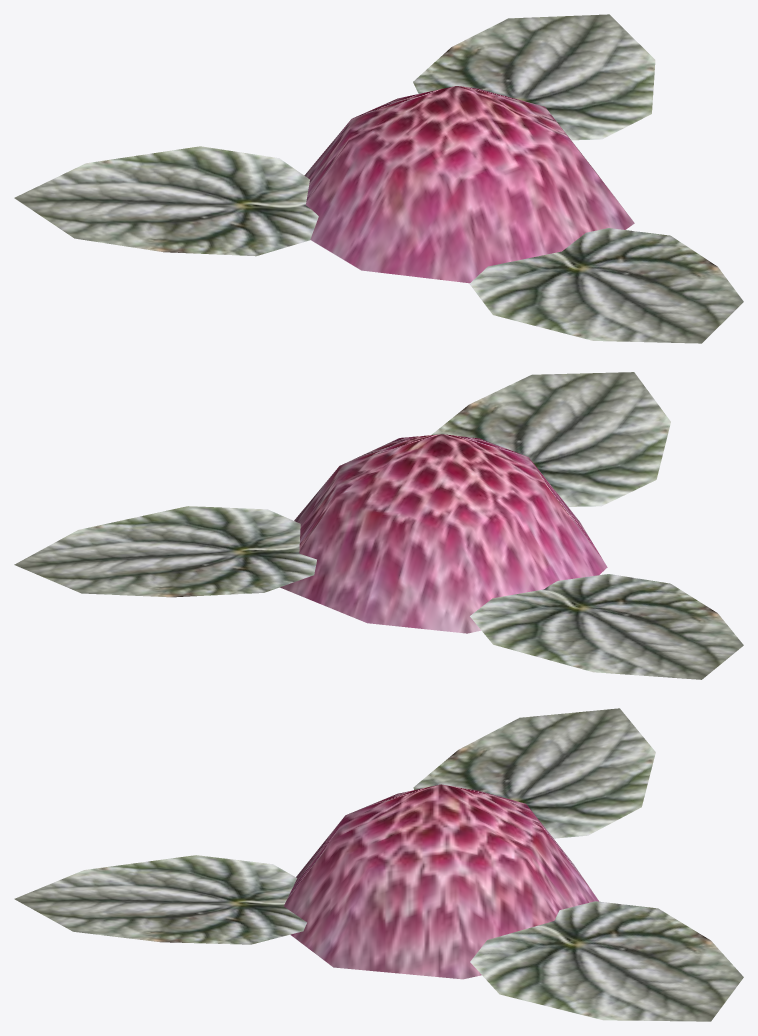
Rendered from mprw_plant_02.FBX.
3 views of the same model, one above another, from view 1: azimuth 30°, elevation 25°; view 2: azimuth 150°, elevation 25°; view 3: azimuth 270°, elevation 25° (orthographic). The views are drawn at different scales.
Parts seen in each view (by area): view 1: mprw_plant_02; view 2: mprw_plant_02; view 3: mprw_plant_02.
Boxes of the visible parts, <box> form: mprw_plant_02: <box>14,14,743,343</box>; mprw_plant_02: <box>14,372,743,679</box>; mprw_plant_02: <box>14,708,743,1021</box>.
Bounding box in the file's own units: 162 × 30.72 × 163.
Materials: 1 (1 with a texture image).
